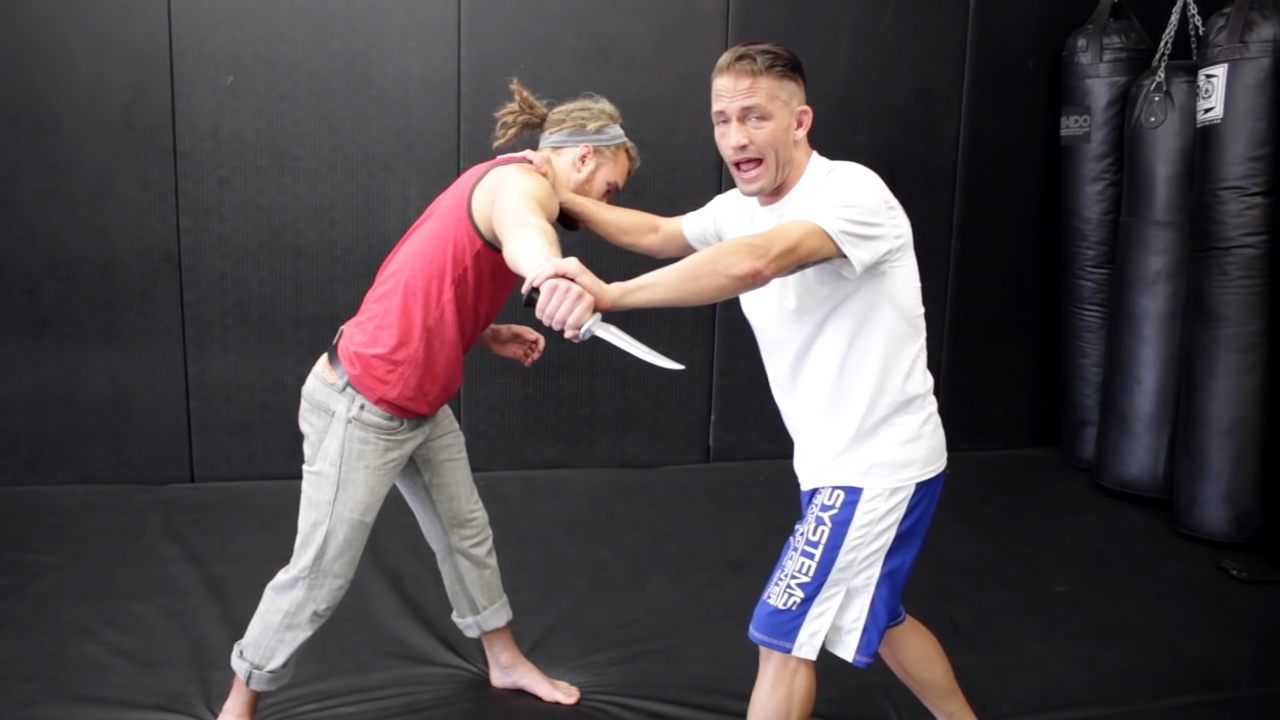knife: (517, 279, 695, 385)
